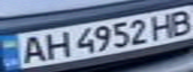2: (127, 16, 154, 45)
4: (72, 25, 96, 55)
5: (112, 19, 133, 49)
9: (90, 23, 115, 53)
A: (12, 34, 51, 64)
B: (166, 7, 193, 37)
H: (39, 29, 72, 60), (148, 10, 178, 40)
